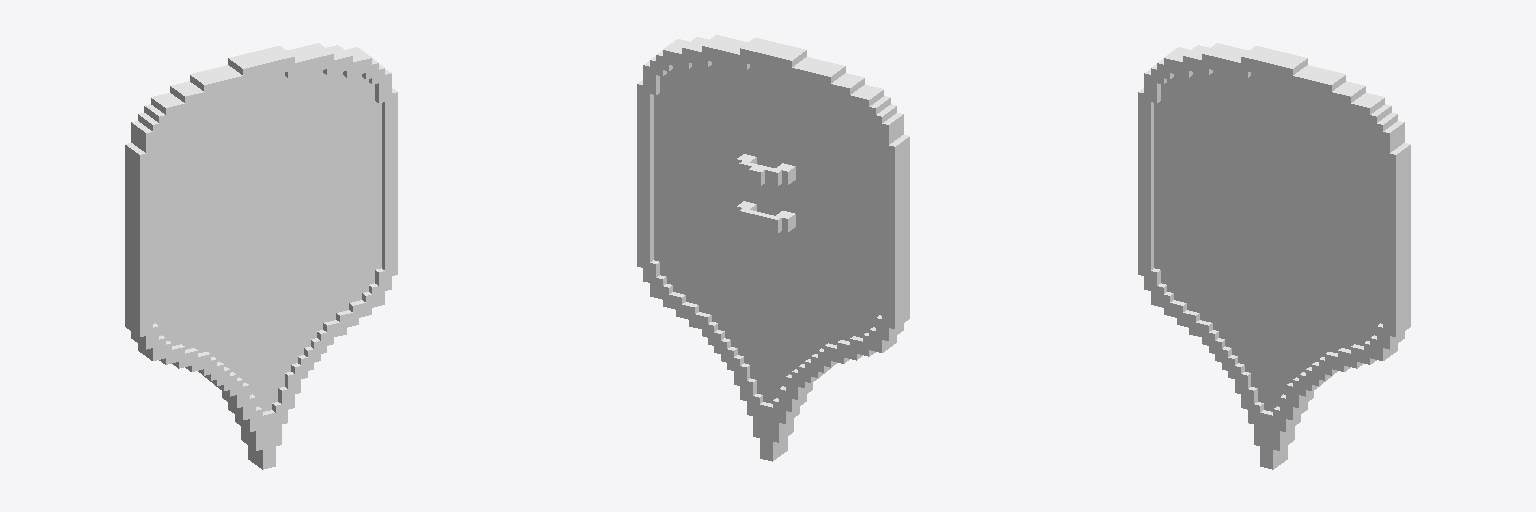
File: BlueShield.obj
3 views of the same model, side by side, from view 1: azimuth 30°, elevation 25°; view 2: azimuth 150°, elevation 25°; view 3: azimuth 330°, elevation 25° (orthographic).
Parts seen in each view (by area): view 1: BlueShield; view 2: BlueShield; view 3: BlueShield.
Part boxes in pixels (left/top/right/bottom): BlueShield: left=125, top=43, right=397, bottom=469; BlueShield: left=637, top=35, right=909, bottom=461; BlueShield: left=1138, top=43, right=1410, bottom=469.
Size of the model in its own units: 40 by 60 by 7.